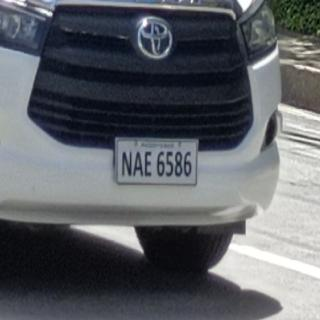license: (116, 138, 198, 185)
